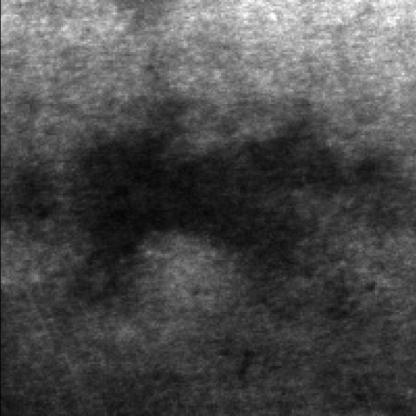patches: (81, 127, 406, 291)
